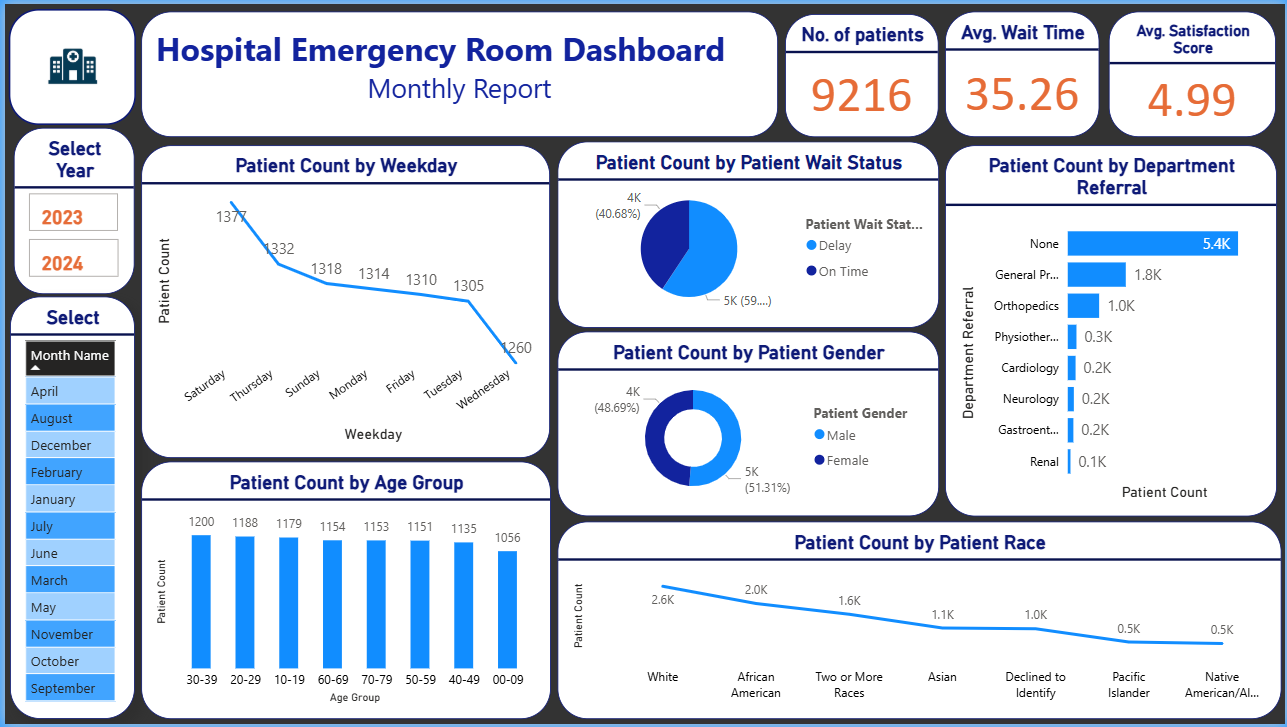

What the dashboard file says about the page in this screenshot:
{"tool":"powerbi","page":{"name":"Page 1","canvas":[1280,720],"ordinal":0},"visuals":[{"type":"textbox","box":[136.8,7.3,636.5,125.8],"z":0},{"type":"image","box":[3.8,5,127.5,116.2],"z":1000},{"type":"card","title":"No. of patients","fields":{"Values":["Date Table.Patient Count"]},"box":[780.6,9.8,153.9,123.4],"z":2000},{"type":"card","title":"Avg. Wait Time","fields":{"Values":["Hospital Emergency Room Data.Average Wait Time"]},"box":[939.5,7,154.7,125.6],"z":3000},{"type":"card","title":"Avg. Satisfaction Score","fields":{"Values":["Date Table.Satisfaction Score"]},"box":[1103.5,7,167.4,125.6],"z":4000},{"type":"advancedSlicerVisual","title":"Select Year","fields":{"Values":["Date Table.Year"]},"box":[8.6,123.4,120.9,166.1],"z":5000},{"type":"pivotTable","title":"Select","fields":{"Rows":["Date Table.Month Name"]},"box":[4.9,292,124.6,422.7],"z":6000},{"type":"donutChart","fields":{"Y":["Date Table.Patient Count"],"Category":["Hospital Emergency Room Data.Patient Gender"]},"box":[552.5,327.5,381.2,185],"z":7000},{"type":"pieChart","fields":{"Y":["Date Table.Patient Count"],"Category":["Hospital Emergency Room Data.Patient Wait Status"]},"box":[552.5,137.5,381.2,186.2],"z":7001},{"type":"barChart","fields":{"Category":["Hospital Emergency Room Data.Department Referral"],"Y":["Date Table.Patient Count"]},"box":[939.4,141.7,332.3,371.4],"z":7002},{"type":"clusteredColumnChart","fields":{"Category":["Hospital Emergency Room Data.Age Group"],"Y":["Date Table.Patient Count"]},"box":[136.8,456.9,409.2,257.8],"z":7003},{"type":"lineChart","fields":{"Category":["Hospital Emergency Room Data.Patient Race"],"Y":["Date Table.Patient Count"]},"box":[552.5,517.5,723.8,197.5],"z":7004},{"type":"lineChart","fields":{"Y":["Date Table.Patient Count"],"Category":["Date Table.Weekday"]},"box":[136.2,141.2,408.8,312.5],"z":7005}]}

Visuals, with their boxes in screenshot pixels (x1, y1, x2, y2), scaled from the page's 1280x720 canvas onto the 1287x727 screenshot:
textbox: box(138, 7, 778, 134)
image: box(4, 5, 132, 122)
"No. of patients" card: box(785, 10, 940, 134)
"Avg. Wait Time" card: box(945, 7, 1100, 134)
"Avg. Satisfaction Score" card: box(1110, 7, 1278, 134)
"Select Year" advancedSlicerVisual: box(9, 125, 130, 292)
"Select" pivotTable: box(5, 295, 130, 722)
donutChart - Date Table.Patient Count x Hospital Emergency Room Data.Patient Gender: box(556, 331, 939, 517)
pieChart - Date Table.Patient Count x Hospital Emergency Room Data.Patient Wait Status: box(556, 139, 939, 327)
barChart - Hospital Emergency Room Data.Department Referral x Date Table.Patient Count: box(945, 143, 1279, 518)
clusteredColumnChart - Hospital Emergency Room Data.Age Group x Date Table.Patient Count: box(138, 461, 549, 722)
lineChart - Hospital Emergency Room Data.Patient Race x Date Table.Patient Count: box(556, 523, 1283, 722)
lineChart - Date Table.Patient Count x Date Table.Weekday: box(137, 143, 548, 458)
